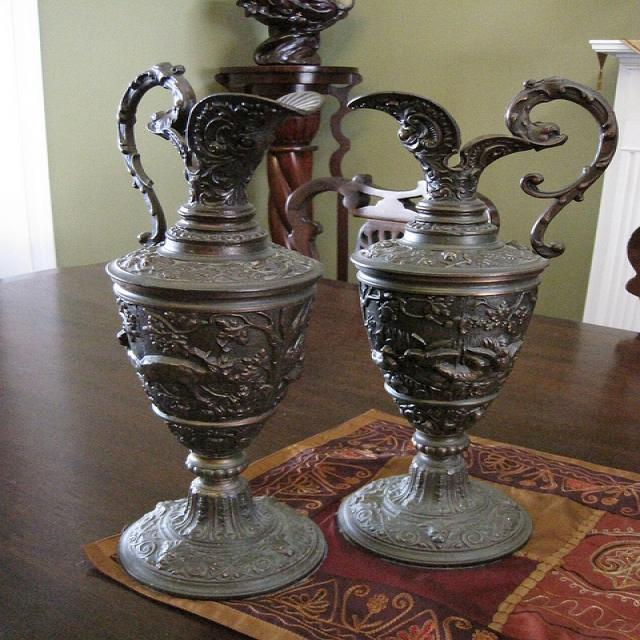dining table: (0, 252, 639, 631)
